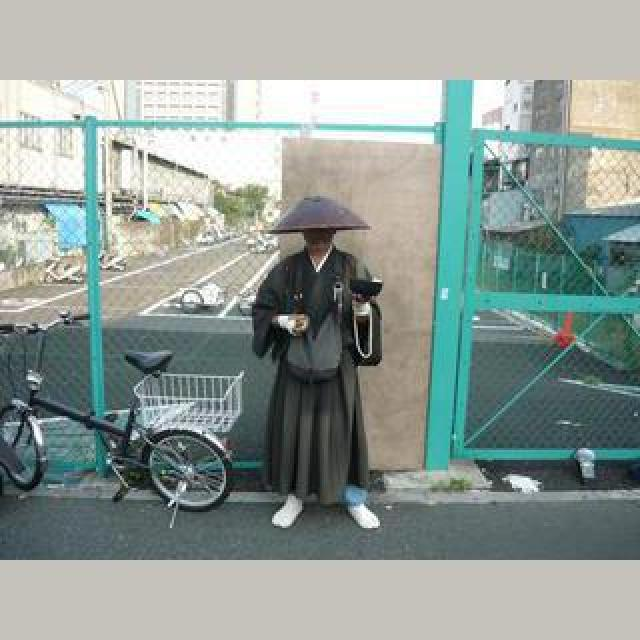MC-Bike: (252, 202, 384, 530)
Person: (0, 320, 238, 522)
